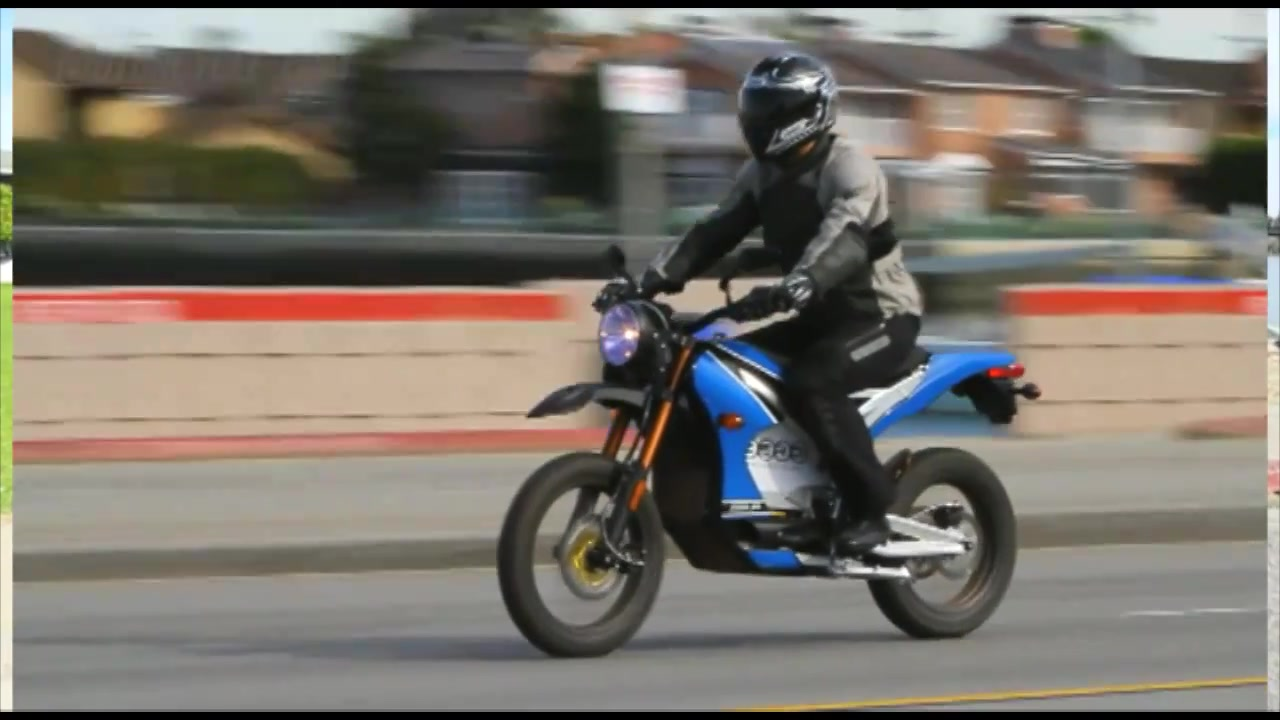motorbike: (493, 251, 1034, 667)
